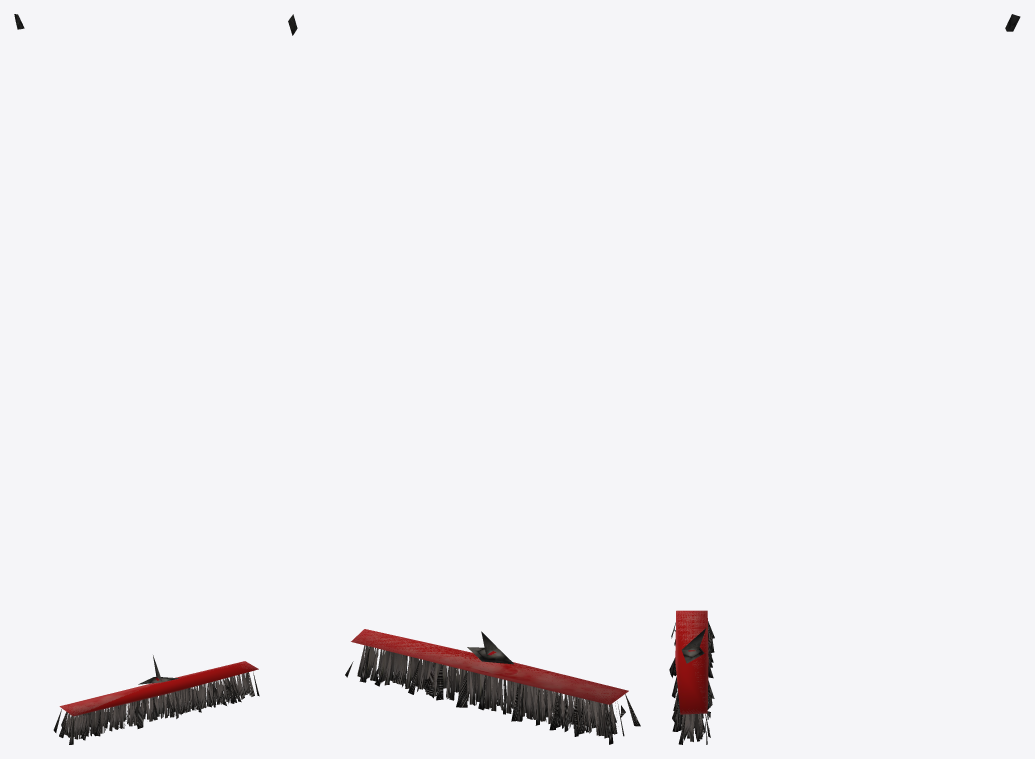
Rendered from g_broom.glb.
The picture shows the model from 3 angles, left to right: view 1: azimuth 30°, elevation 25°; view 2: azimuth 150°, elevation 25°; view 3: azimuth 270°, elevation 25°; orthographic projection. The views are drawn at different scales.
Parts seen in each view (by area): view 1: plastic_broom; view 2: plastic_broom; view 3: plastic_broom.
Part boxes in pixels (x1,y1,x2,y2): plastic_broom: (14,14,259,744); plastic_broom: (288,14,640,744); plastic_broom: (669,14,1020,744).
Bounding box in the file's own units: 0.4121 × 1.2 × 0.5611.
Materials: 2 (2 with a texture image).
